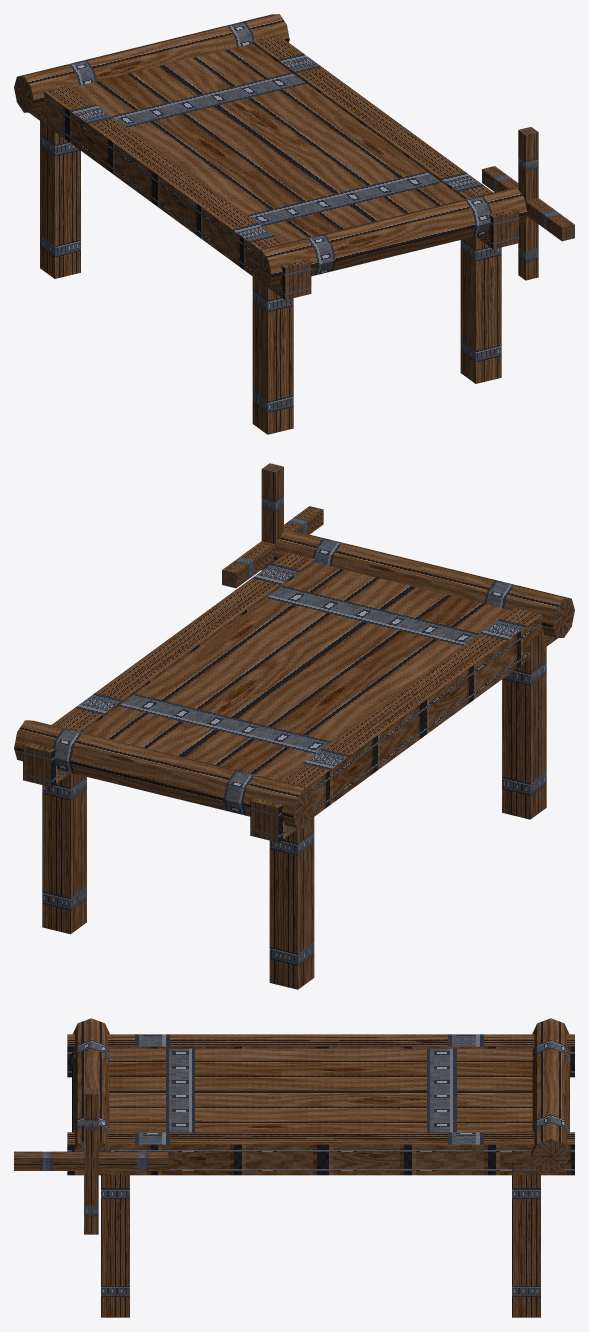
File: prisao_cavalete_de_tortura.glb
The picture shows the model from 3 angles, top to bottom: view 1: azimuth 30°, elevation 25°; view 2: azimuth 150°, elevation 25°; view 3: azimuth 270°, elevation 25°; orthographic projection. The views are drawn at different scales.
Visible parts, largest first — view 1: prisao_cavalete_de_tortura; view 2: prisao_cavalete_de_tortura; view 3: prisao_cavalete_de_tortura.
Boxes of the visible parts, <box> form: prisao_cavalete_de_tortura: <box>14,14,574,434</box>; prisao_cavalete_de_tortura: <box>14,463,574,989</box>; prisao_cavalete_de_tortura: <box>14,1018,574,1317</box>.
Size of the model in its own units: 1.26 by 1.08 by 2.32.
1 material, 1 textured.
